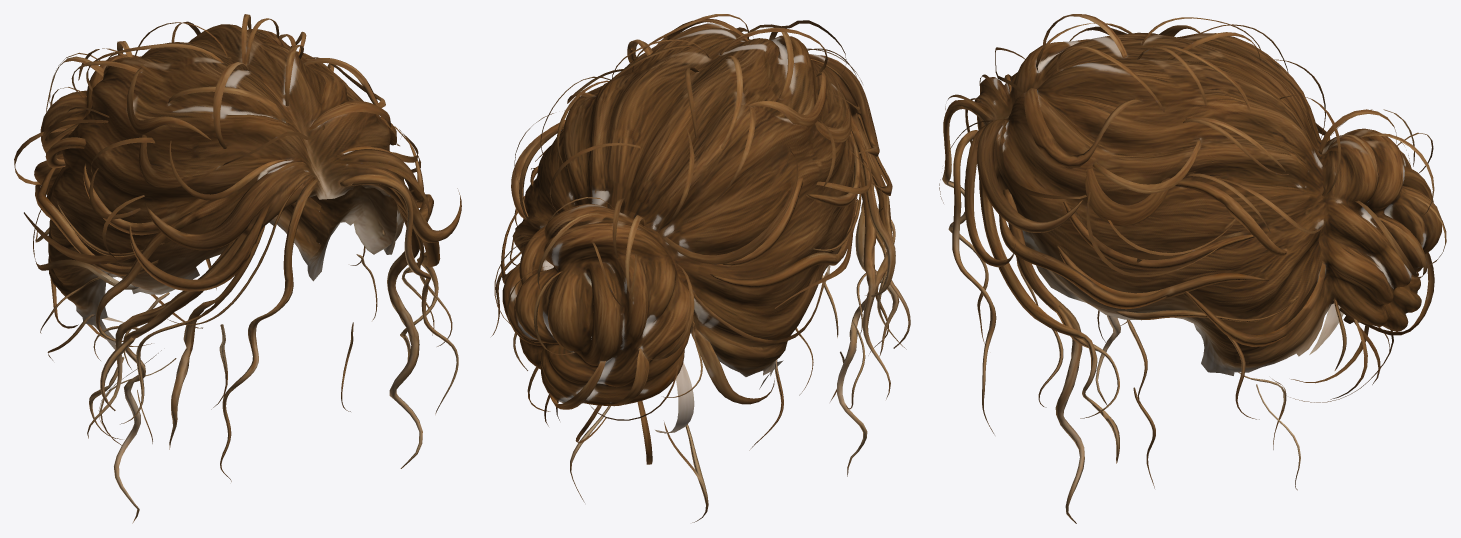
The model's file is woman_hair_3d_model.fbx.
The picture shows the model from 3 angles, left to right: view 1: azimuth 30°, elevation 25°; view 2: azimuth 150°, elevation 25°; view 3: azimuth 270°, elevation 25°; orthographic projection. The views are drawn at different scales.
Visible parts, largest first — view 1: tripo_part_0; view 2: tripo_part_0; view 3: tripo_part_0.
Part boxes in pixels (x1=…): tripo_part_0: x1=14, y1=14, x2=461, y2=523; tripo_part_0: x1=491, y1=14, x2=910, y2=522; tripo_part_0: x1=939, y1=14, x2=1446, y2=523.
Size of the model in its own units: 0.6177 by 0.7583 by 0.7964.
1 material, 1 textured.
